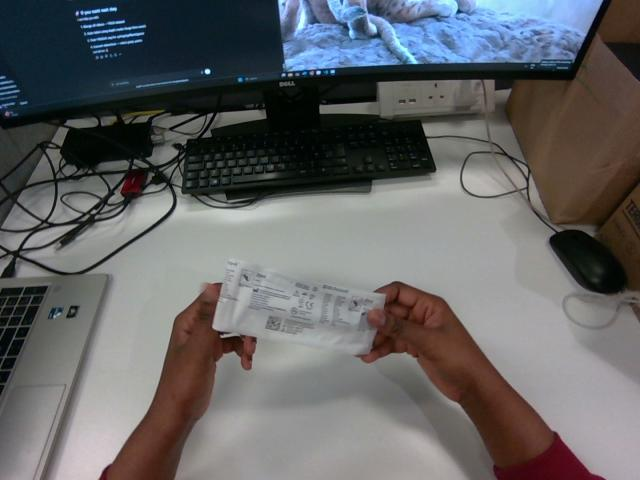syringe: (213, 259, 384, 354)
